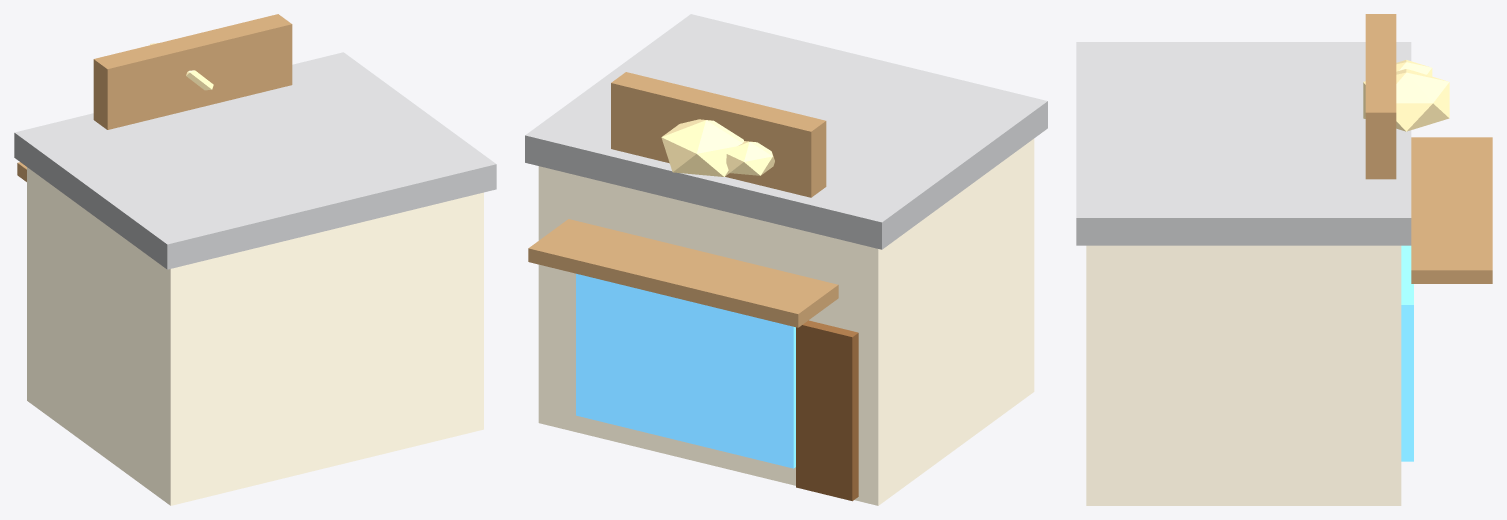
Rendered from bakery.glb.
3 renders of one model, left to right at view 1: azimuth 30°, elevation 25°; view 2: azimuth 150°, elevation 25°; view 3: azimuth 270°, elevation 25°, orthographic. The views are drawn at different scales.
Visible parts, largest first — view 1: bakery; view 2: bakery; view 3: bakery.
Boxes of the visible parts, box(x1,y1,x2,y2) form: bakery: box(14, 14, 496, 505); bakery: box(525, 14, 1047, 505); bakery: box(1076, 14, 1492, 505).
Size of the model in its own units: 0.82 by 0.78 by 0.82.
